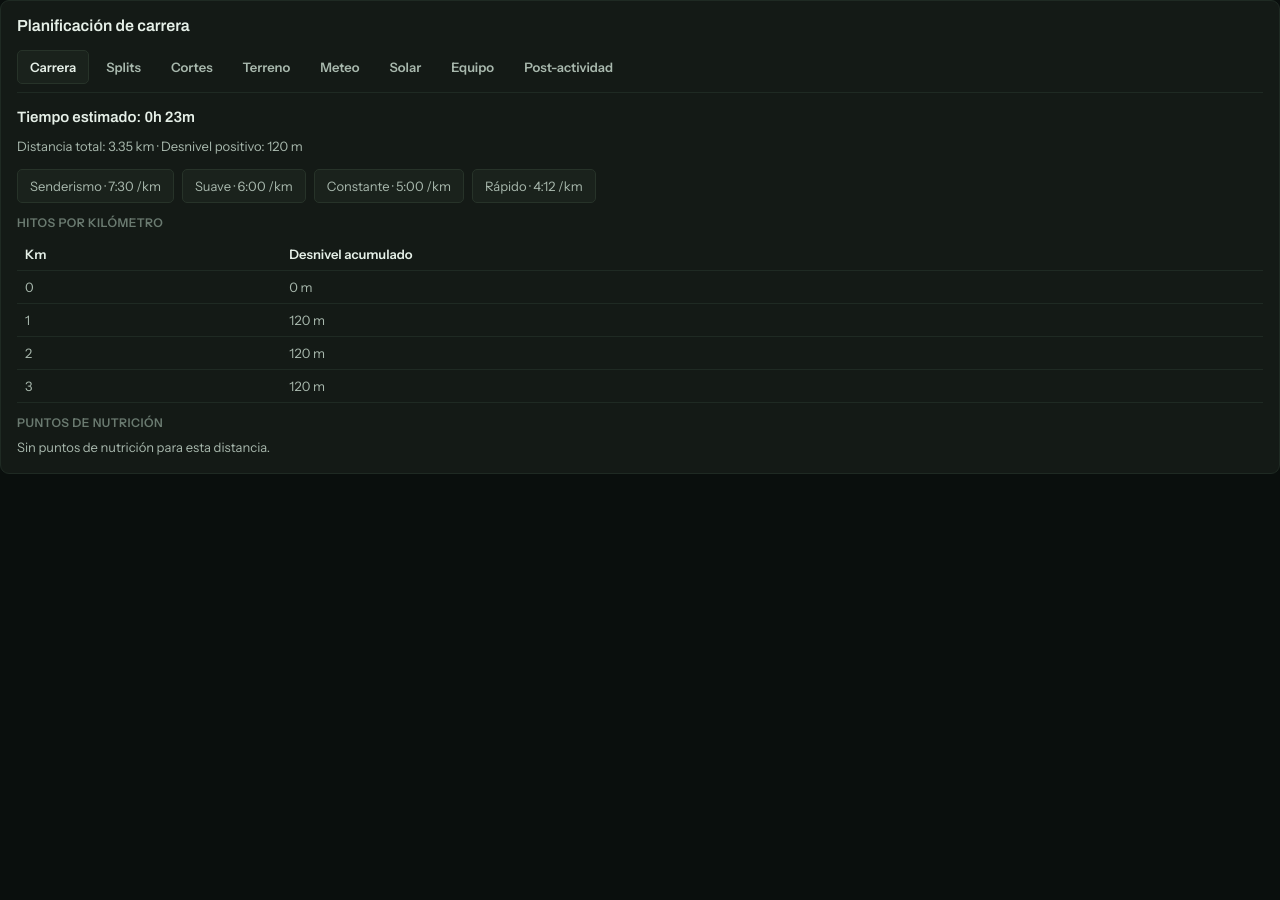
Test: RacePlanSection › adds a safe and an unsafe cutoff and rejects invalid input
Click the tab "Cortes".
click(192, 67)  # box [158, 50, 226, 84]
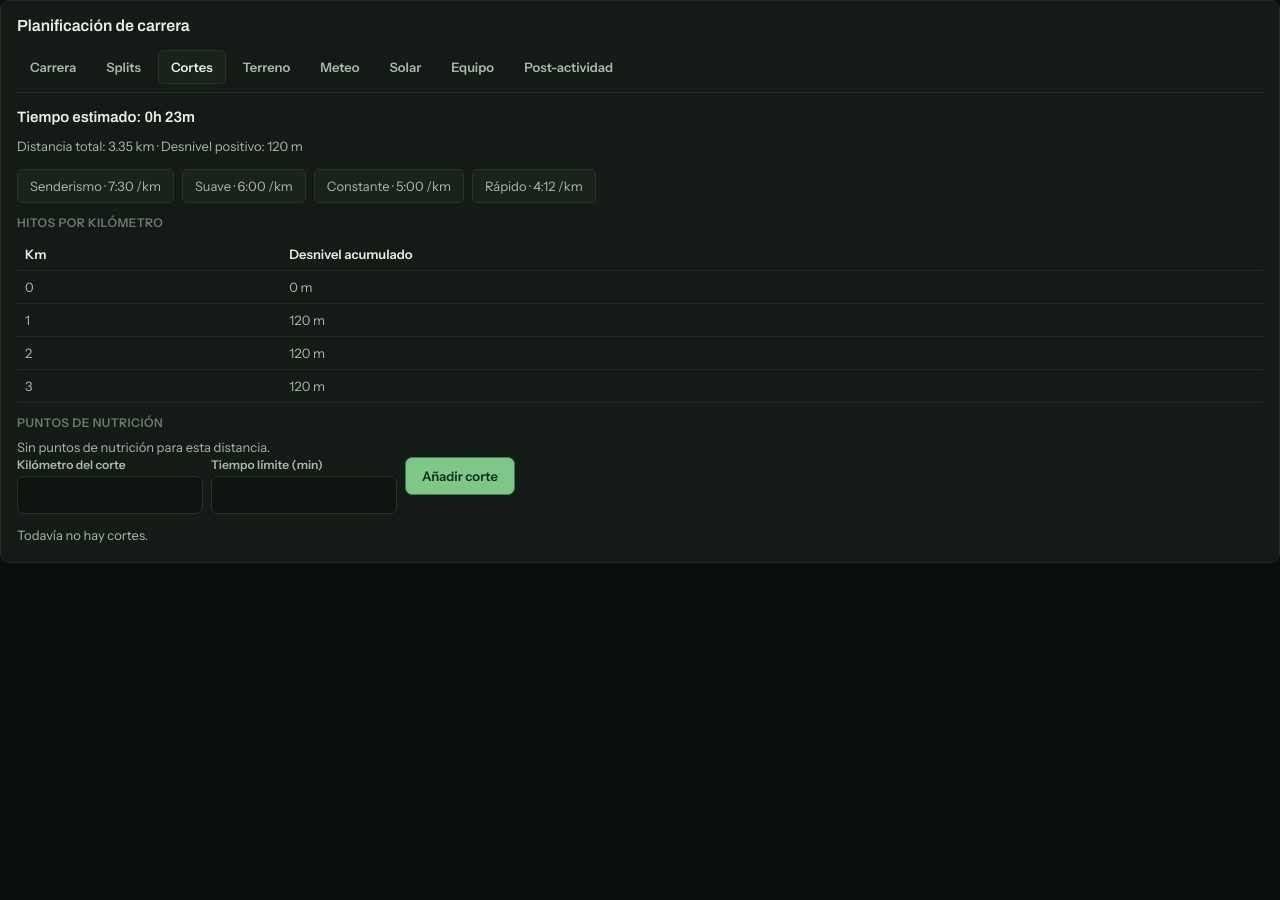
Click the button "Añadir corte".
click(460, 476)  # box [405, 457, 515, 495]
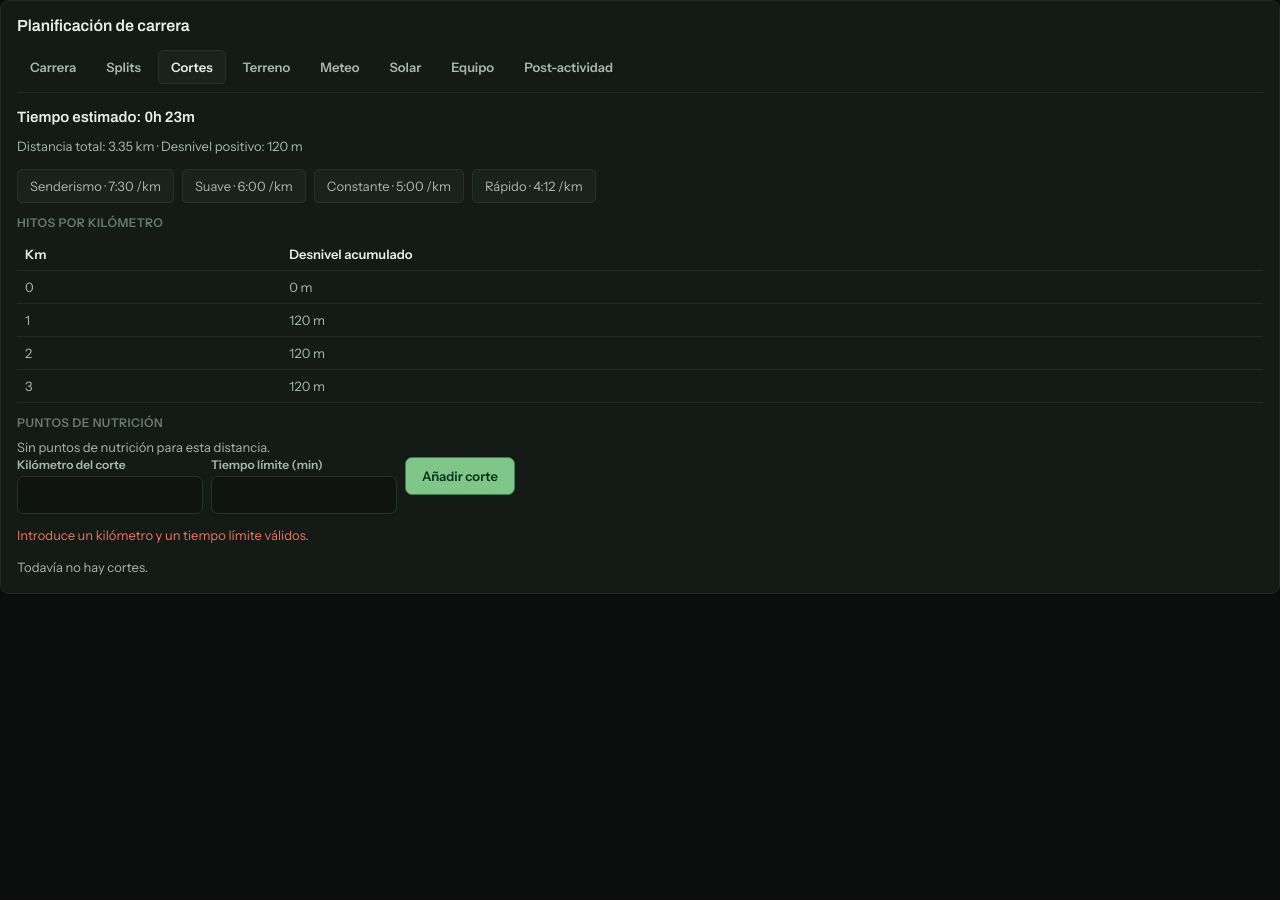
expect the message shows "válidos": met, box [17, 527, 309, 543]
Type "3" into the number field labelled "Kilómetro del corte".
click(110, 495); type("3")  # box [17, 476, 203, 514]
Type "30" into the number field labelled "Tiempo límite (min)".
click(304, 495); type("30")  # box [211, 476, 397, 514]
Click the button "Añadir corte".
click(460, 476)  # box [405, 457, 515, 495]
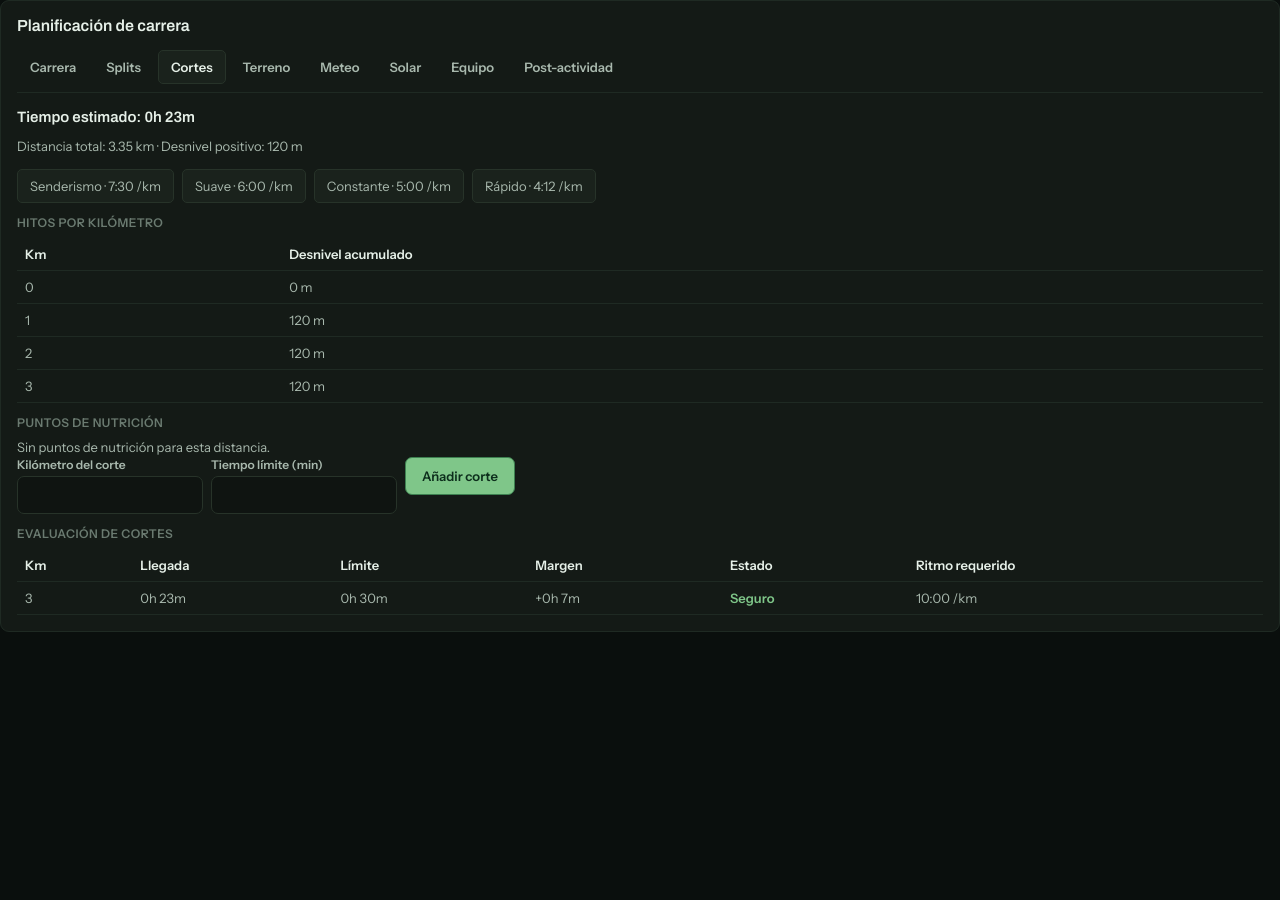
Type "3" into the number field labelled "Kilómetro del corte".
click(110, 495); type("3")  # box [17, 476, 203, 514]
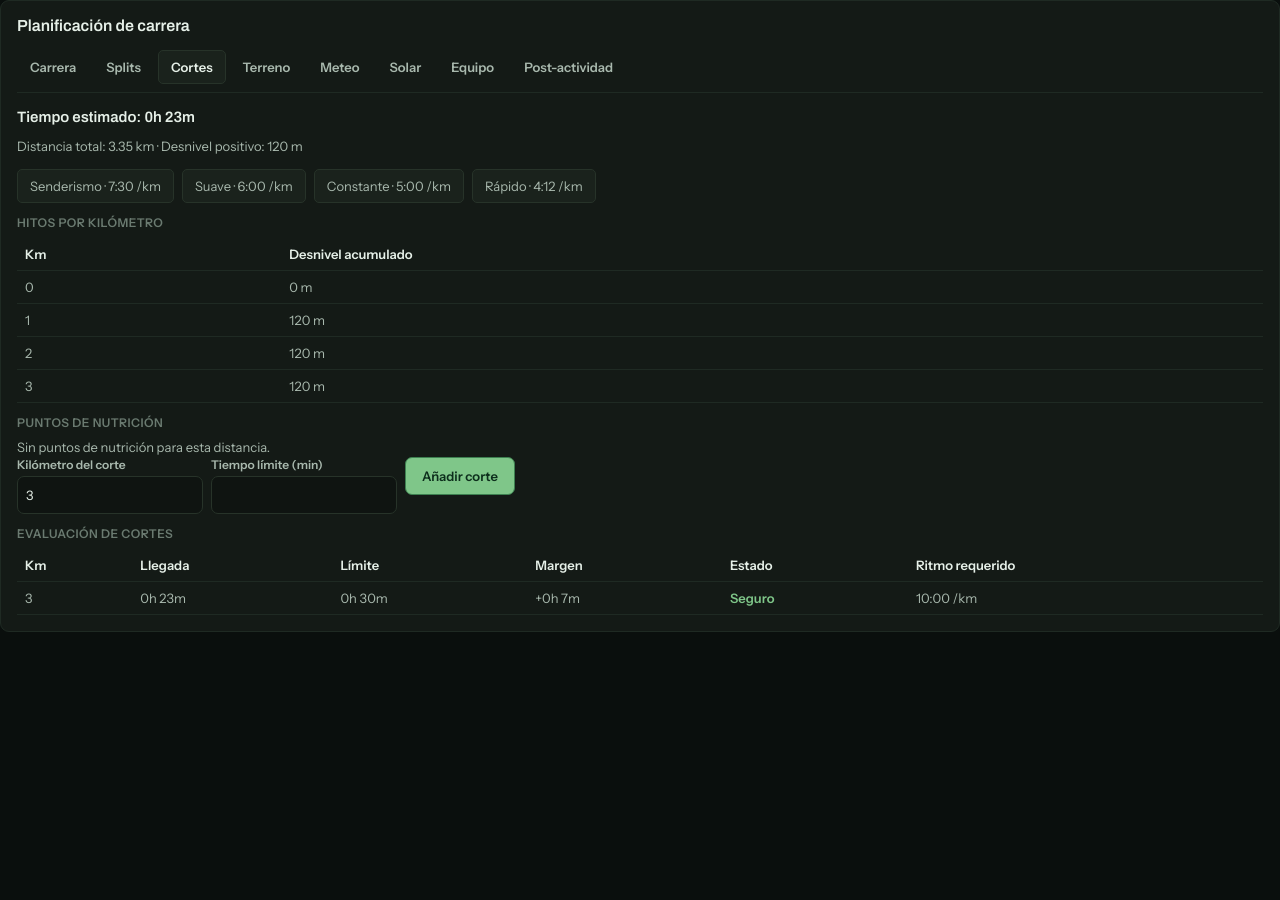
Type "5" into the number field labelled "Tiempo límite (min)".
click(304, 495); type("5")  # box [211, 476, 397, 514]
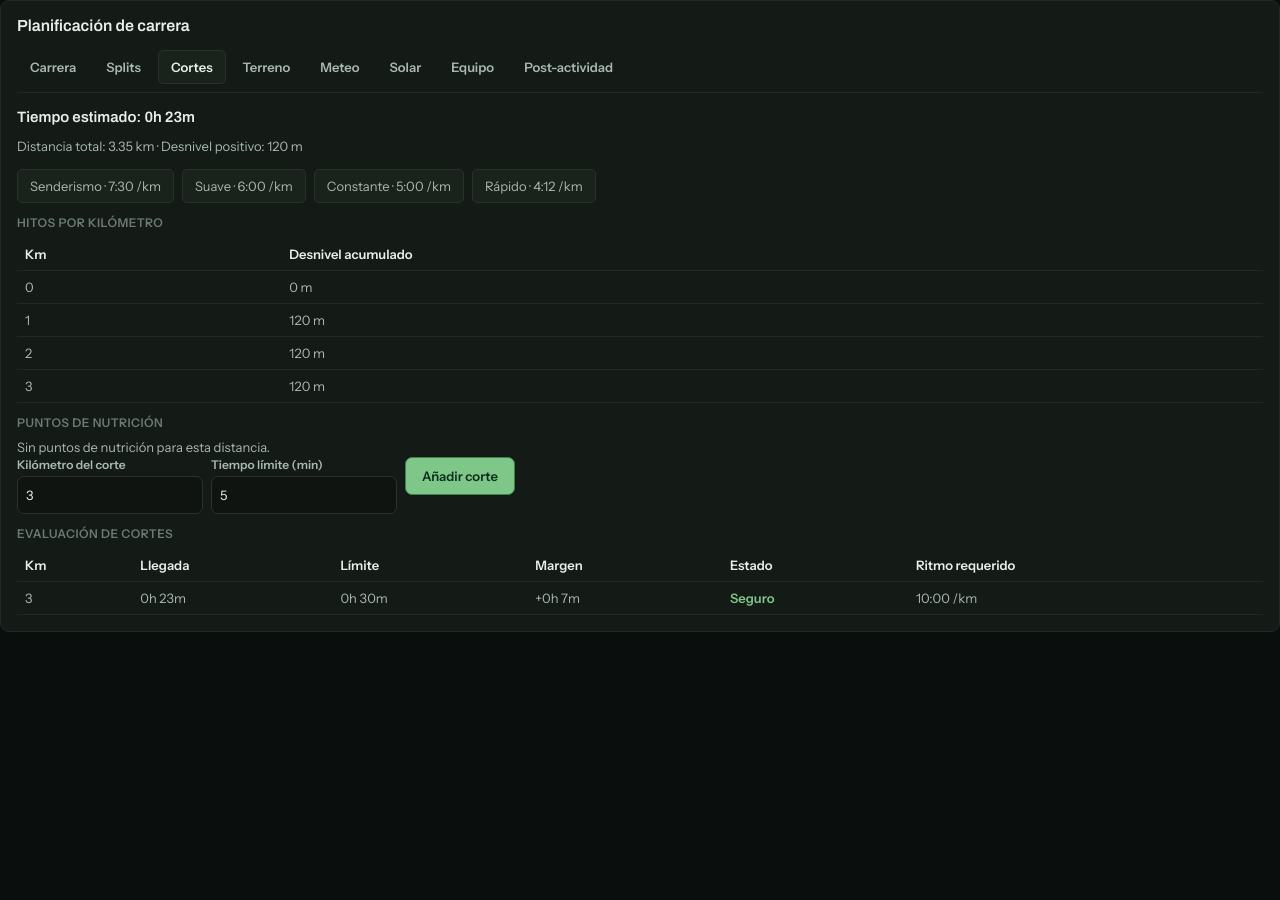
Click the button "Añadir corte".
click(460, 476)  # box [405, 457, 515, 495]
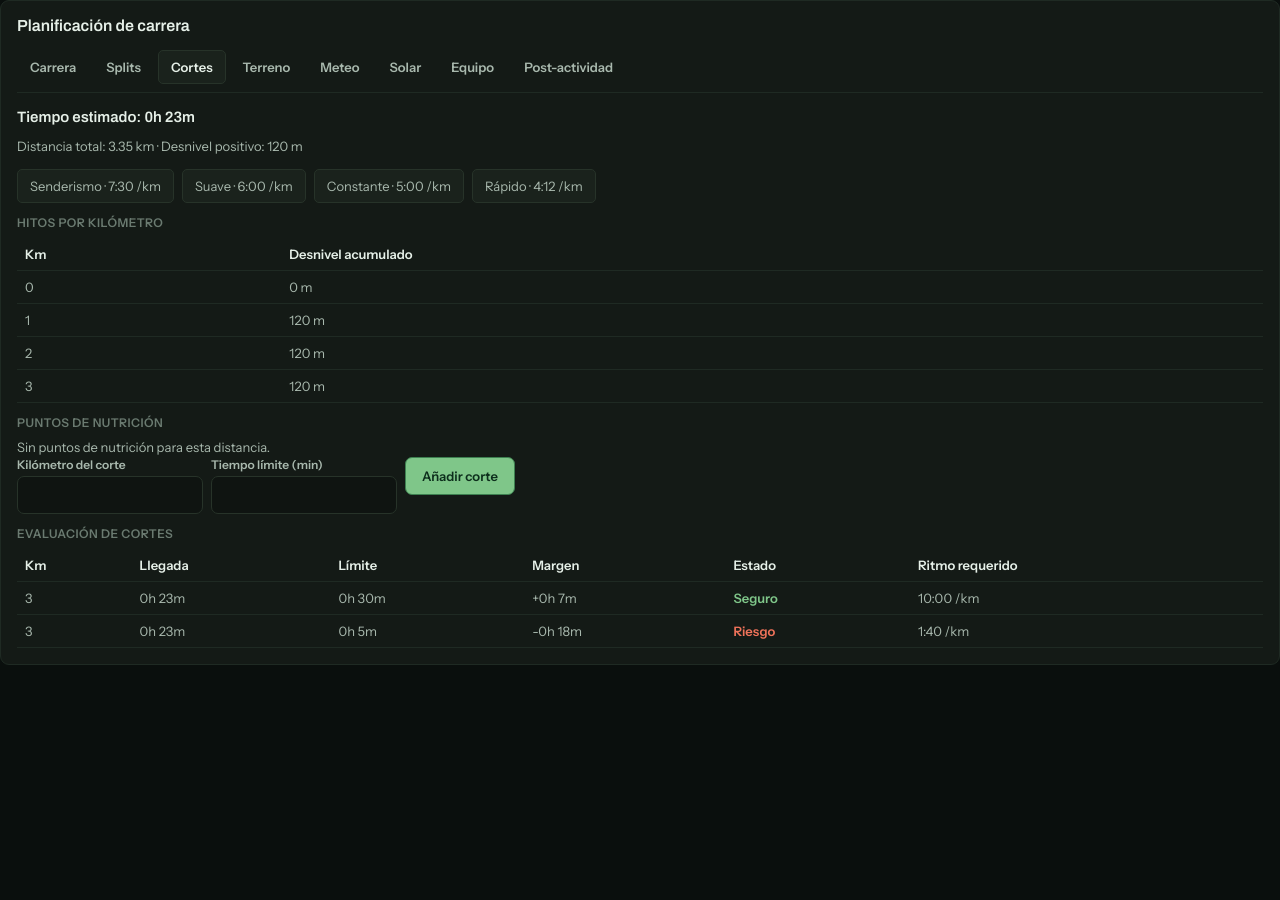
expect the text "Seguro" is shown: met, box [733, 590, 778, 606]
expect the text "Riesgo" is shown: met, box [733, 623, 775, 639]
